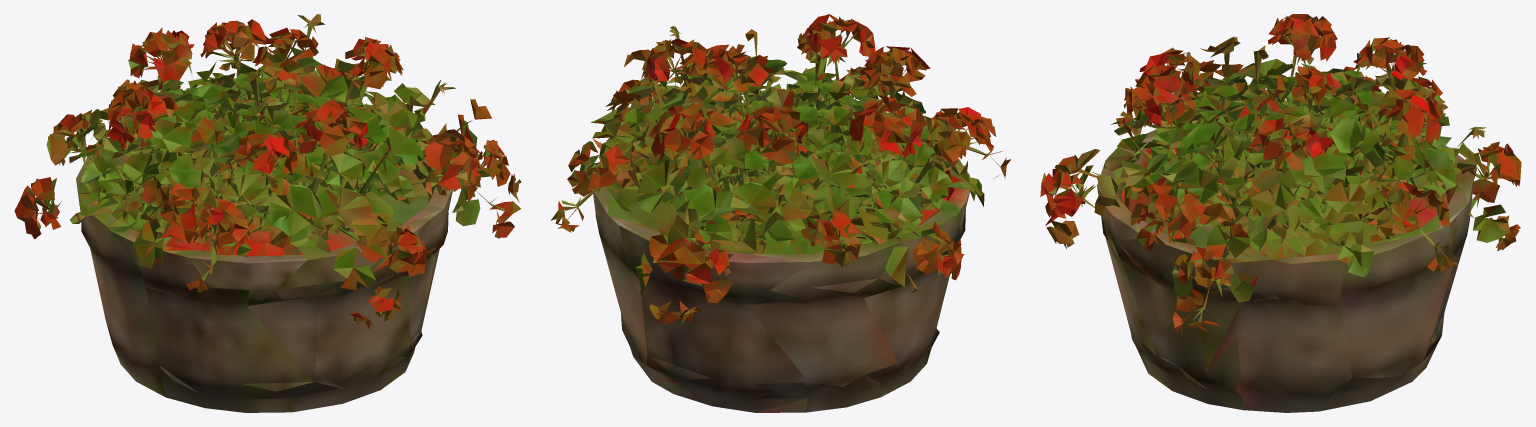
File: planter.glb
3 views of the same model, side by side, from view 1: azimuth 30°, elevation 25°; view 2: azimuth 150°, elevation 25°; view 3: azimuth 270°, elevation 25° (orthographic).
Parts seen in each view (by area): view 1: output_unwrapped; view 2: output_unwrapped; view 3: output_unwrapped.
Part boxes in pixels (left/top/right/bottom): output_unwrapped: left=14, top=14, right=521, bottom=412; output_unwrapped: left=550, top=14, right=1010, bottom=412; output_unwrapped: left=1040, top=14, right=1521, bottom=412.
Size of the model in its own units: 1.86 by 1.28 by 1.86.
Materials: 1 (1 with a texture image).
